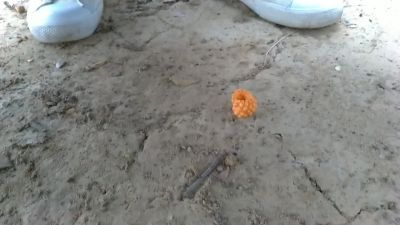eggs: (229, 88, 257, 118)
